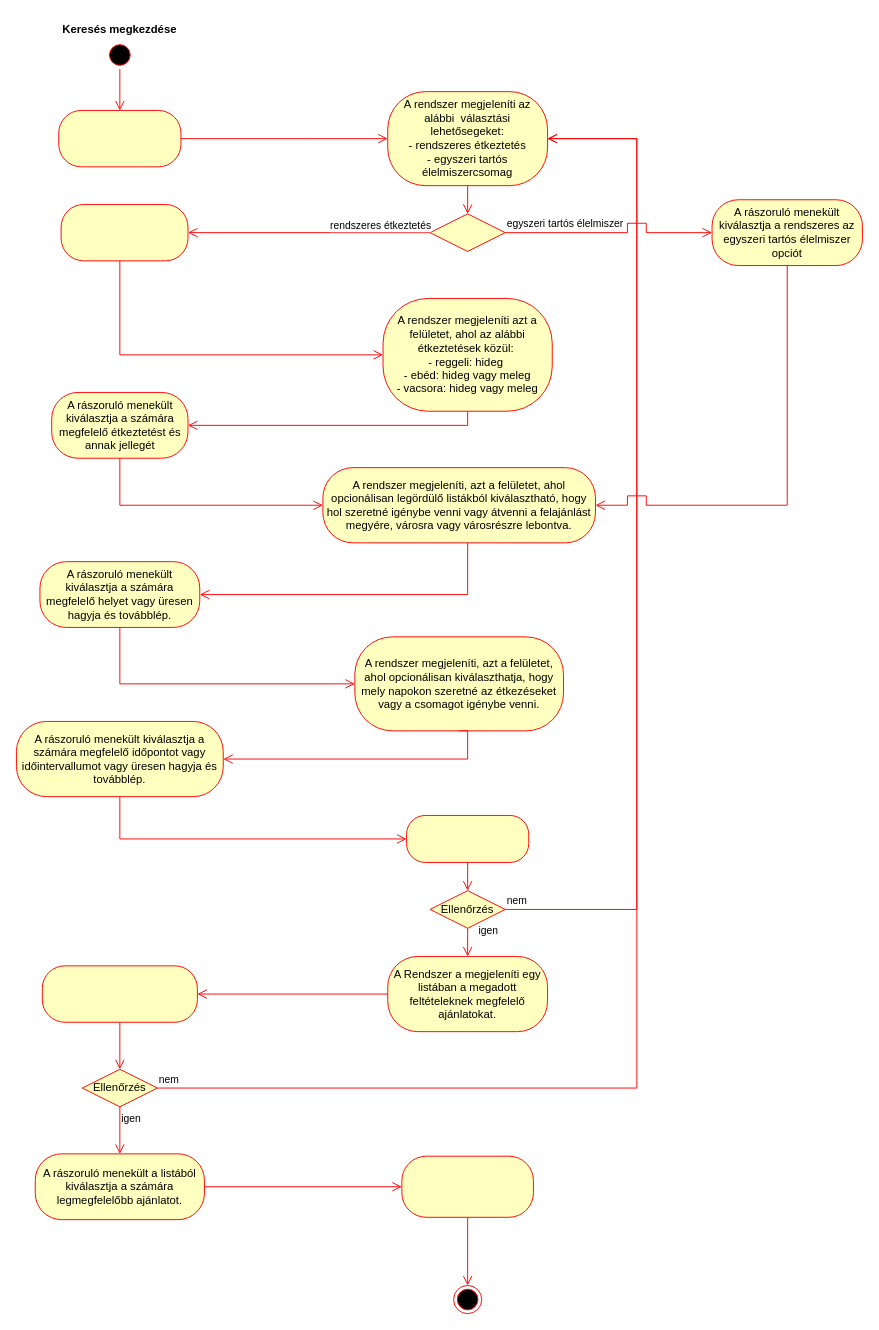
This 879x1330 diagram has some shape labels left out. Here are the shapes that lost their labels. From the top down, the centre of each, then its label:
the point at 119,138: A rászoruló menekült elindítja a keresés funkciót
the point at 124,232: A rászoruló menekült kiválasztja a rendszeres étkeztetés opciót
the point at 467,838: A rendszer ellenőrzi, hogy van-e találat
the point at 119,993: A rászoruló menekült ellenőrzi, hogy van-e számára megfelelő ajánlat
the point at 467,1186: A rendszer megjeleníti a felajánló elérhetőségeit
